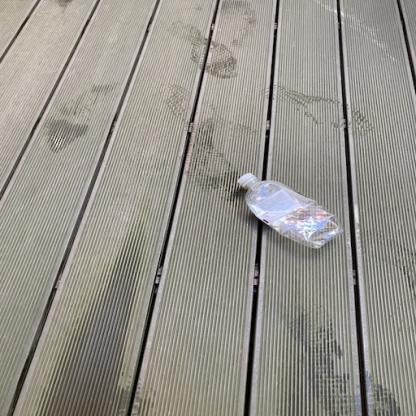trash: (238, 167, 347, 250)
